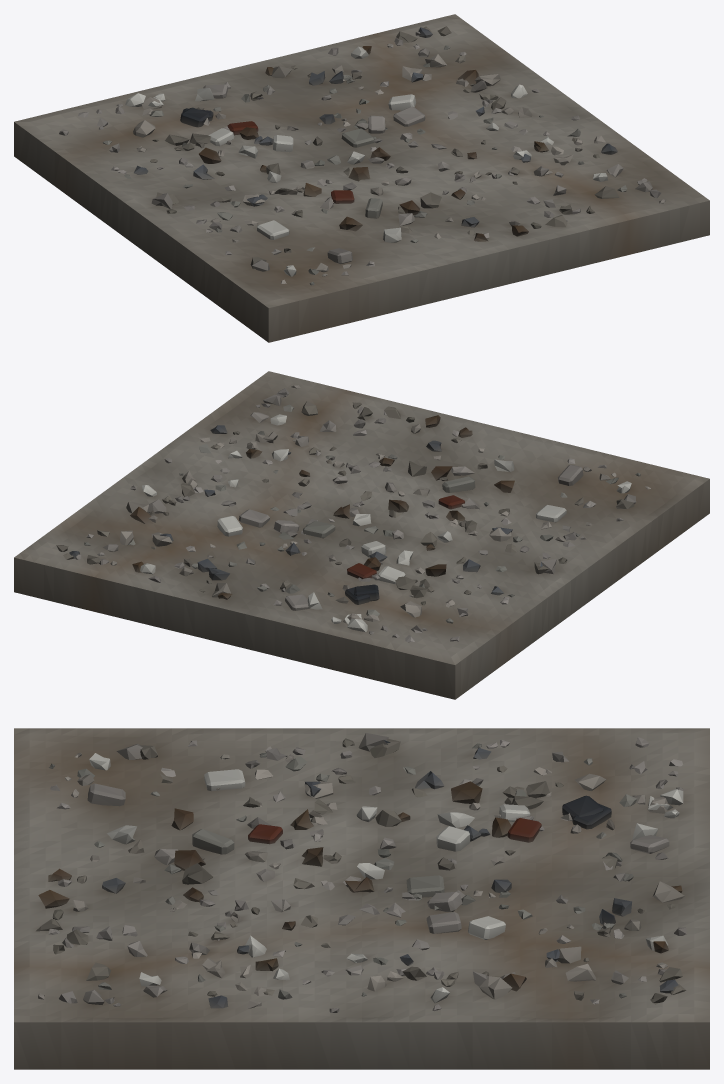
File: gravel-hardcore-tile.glb
3 renders of one model, top to bottom at view 1: azimuth 30°, elevation 25°; view 2: azimuth 150°, elevation 25°; view 3: azimuth 270°, elevation 25°, orthographic. The views are drawn at different scales.
Visible parts, largest first — view 1: gravel_hardcore_tile; view 2: gravel_hardcore_tile; view 3: gravel_hardcore_tile.
Part boxes in pixels (<box>): gravel_hardcore_tile: <box>14,14,709,342</box>; gravel_hardcore_tile: <box>14,371,709,699</box>; gravel_hardcore_tile: <box>14,728,709,1069</box>.
Bounding box in the file's own units: 4 × 0.409 × 4.
